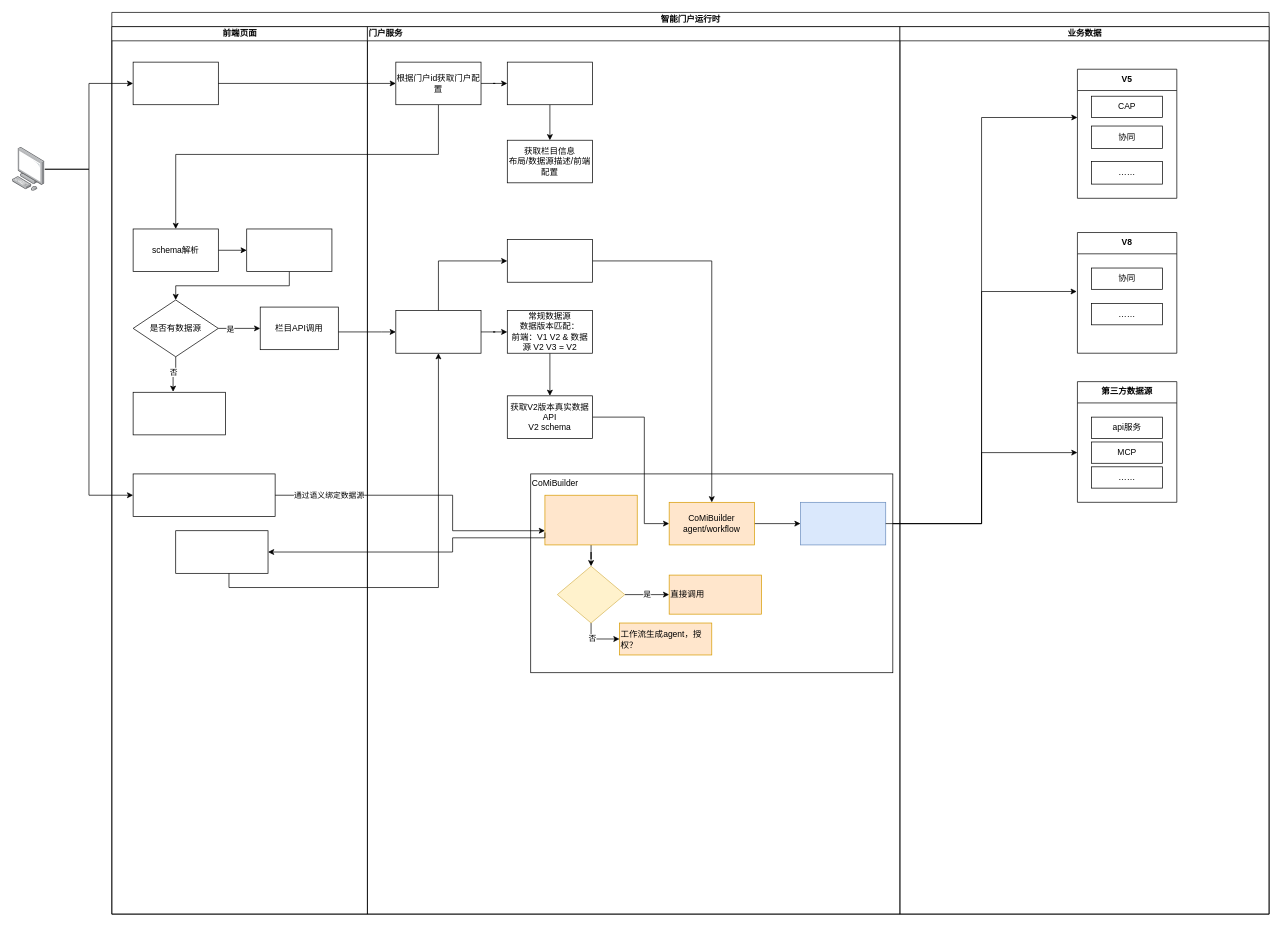
The diagram is 1282 pixels wide and 927 high, and some of its shapes have lost their labels. Each missing label, with the centre of its shape:
"1、语义解析 确认是否有agent解决用户问题、 通用comi？ 2、" goes at point 590,520.
"Agent数据源 要求返回html片段，" goes at point 549,260.
"工具集" goes at point 843,523.
"新建视图 允许运行时动态修改配置，可以把视图分享给其它人员。运行时授权" goes at point 203,495.
"是否是现有agent" goes at point 591,594.
"渲染布局与主题，分析栏目数据源" goes at point 289,250.
"直接渲染栏目" goes at point 178,413.
"绑定数据源，写入数据源配置" goes at point 221,551.
"获取JSON-schema" goes at point 175,83.
"获取栏目数据源配置" goes at point 438,331.
"获取门户主数据" goes at point 549,83.
